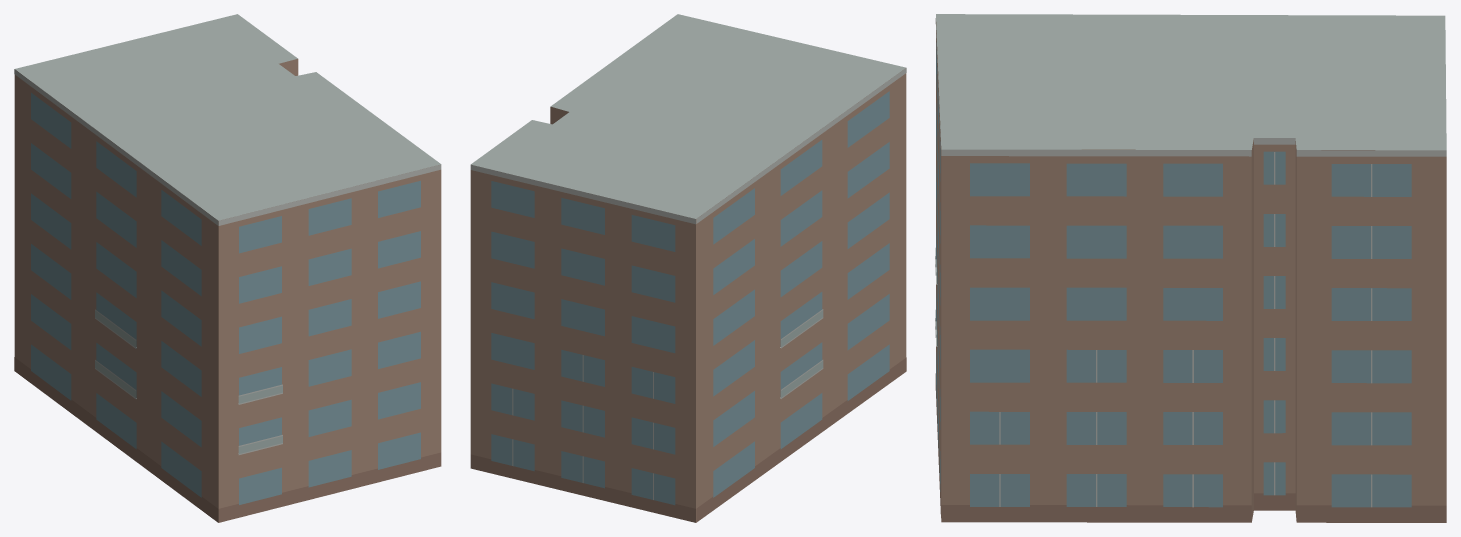
File: survey-upis-32960066.glb
The picture shows the model from 3 angles, left to right: view 1: azimuth 30°, elevation 25°; view 2: azimuth 150°, elevation 25°; view 3: azimuth 270°, elevation 25°; orthographic projection. The views are drawn at different scales.
Visible parts, largest first — view 1: survey-upis-32960066.tmp; view 2: survey-upis-32960066.tmp; view 3: survey-upis-32960066.tmp.
Boxes of the visible parts, x1,y1,x2,y2 form: survey-upis-32960066.tmp: (14,14,441,522); survey-upis-32960066.tmp: (470,14,906,522); survey-upis-32960066.tmp: (935,14,1446,522).
Bounding box in the file's own units: 10.91 × 13.9 × 17.3.
